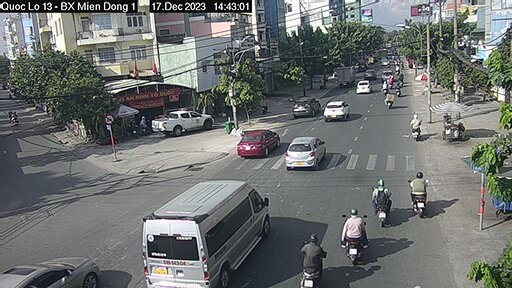car: (140, 168, 272, 284), (237, 127, 280, 157), (288, 136, 321, 169), (291, 96, 317, 119), (324, 101, 350, 118), (356, 82, 371, 92)
motorbike: (297, 235, 327, 285), (372, 180, 394, 232), (342, 210, 365, 255), (405, 173, 427, 214), (410, 115, 424, 143)
truck: (334, 64, 353, 86)
